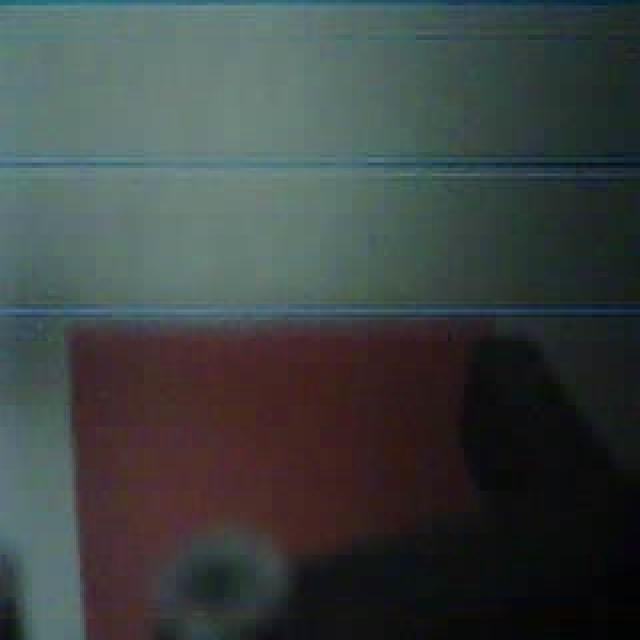red_box: (58, 309, 514, 640)
